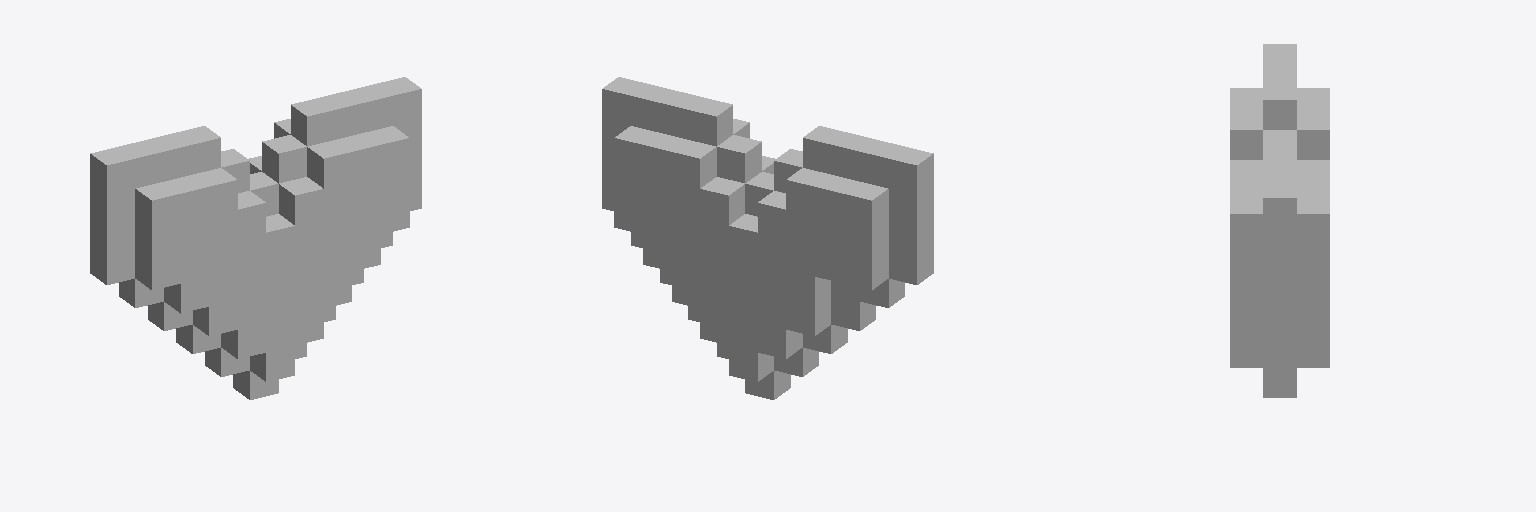
The model's file is Heart.obj.
3 renders of one model, left to right at view 1: azimuth 30°, elevation 25°; view 2: azimuth 150°, elevation 25°; view 3: azimuth 270°, elevation 25°, orthographic.
Visible parts, largest first — view 1: object 1; view 2: object 1; view 3: object 1.
Boxes of the visible parts, x1,y1,x2,y2 form: object 1: [90, 77, 421, 399]; object 1: [602, 77, 933, 399]; object 1: [1230, 44, 1329, 397].
Size of the model in its own units: 1.1 by 0.9 by 0.3.